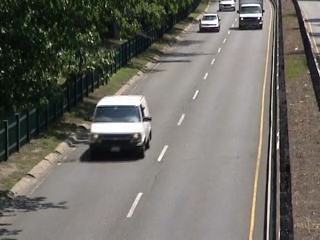car: (198, 14, 224, 34), (217, 1, 237, 12)
truck: (86, 94, 154, 158), (236, 1, 265, 29)
